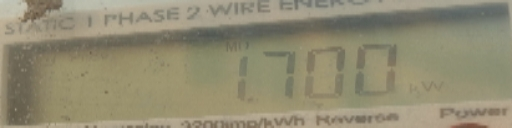0: (299, 43, 347, 103), (351, 40, 396, 103)
1: (237, 48, 250, 101)
7: (260, 46, 300, 101)
d: (244, 96, 256, 103)
